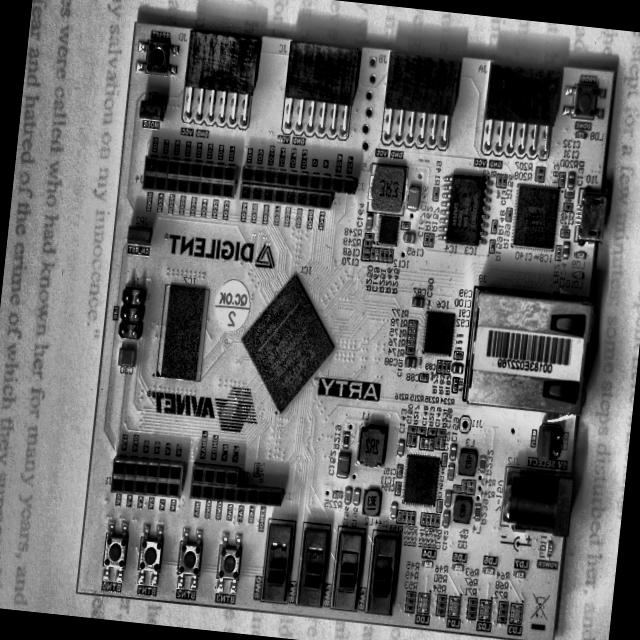PCB: (73, 0, 633, 640)
